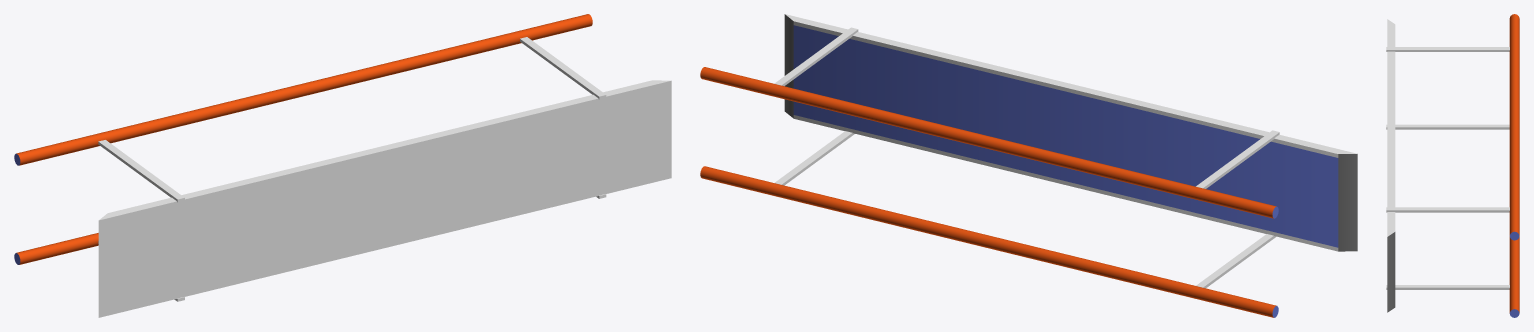
The picture shows the model from 3 angles, left to right: view 1: azimuth 30°, elevation 25°; view 2: azimuth 150°, elevation 25°; view 3: azimuth 270°, elevation 25°; orthographic projection. The views are drawn at different scales.
Parts seen in each view (by area): view 1: Cube.001; view 2: Cube.001; view 3: Cube.001.
Boxes of the visible parts, x1,y1,x2,y2 form: Cube.001: [14, 14, 671, 317]; Cube.001: [700, 14, 1357, 317]; Cube.001: [1386, 14, 1519, 317].
Bounding box in the file's own units: 400 × 73.83 × 103.
